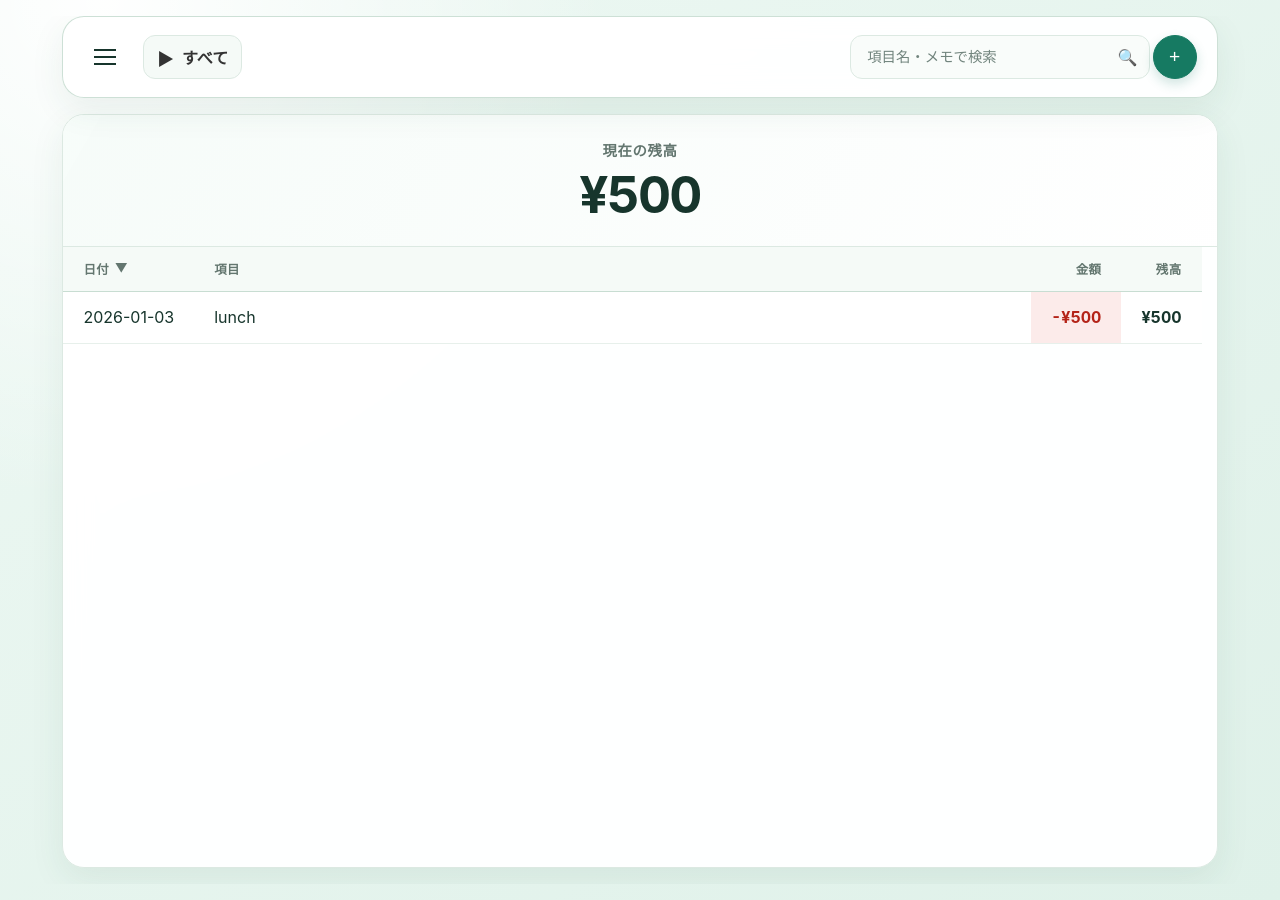
shows saved images in read-only details before the pencil opens editing
Click the row "2026-01-03 lunch -¥500 ¥500".
click(632, 318)  # box [63, 292, 1202, 343]
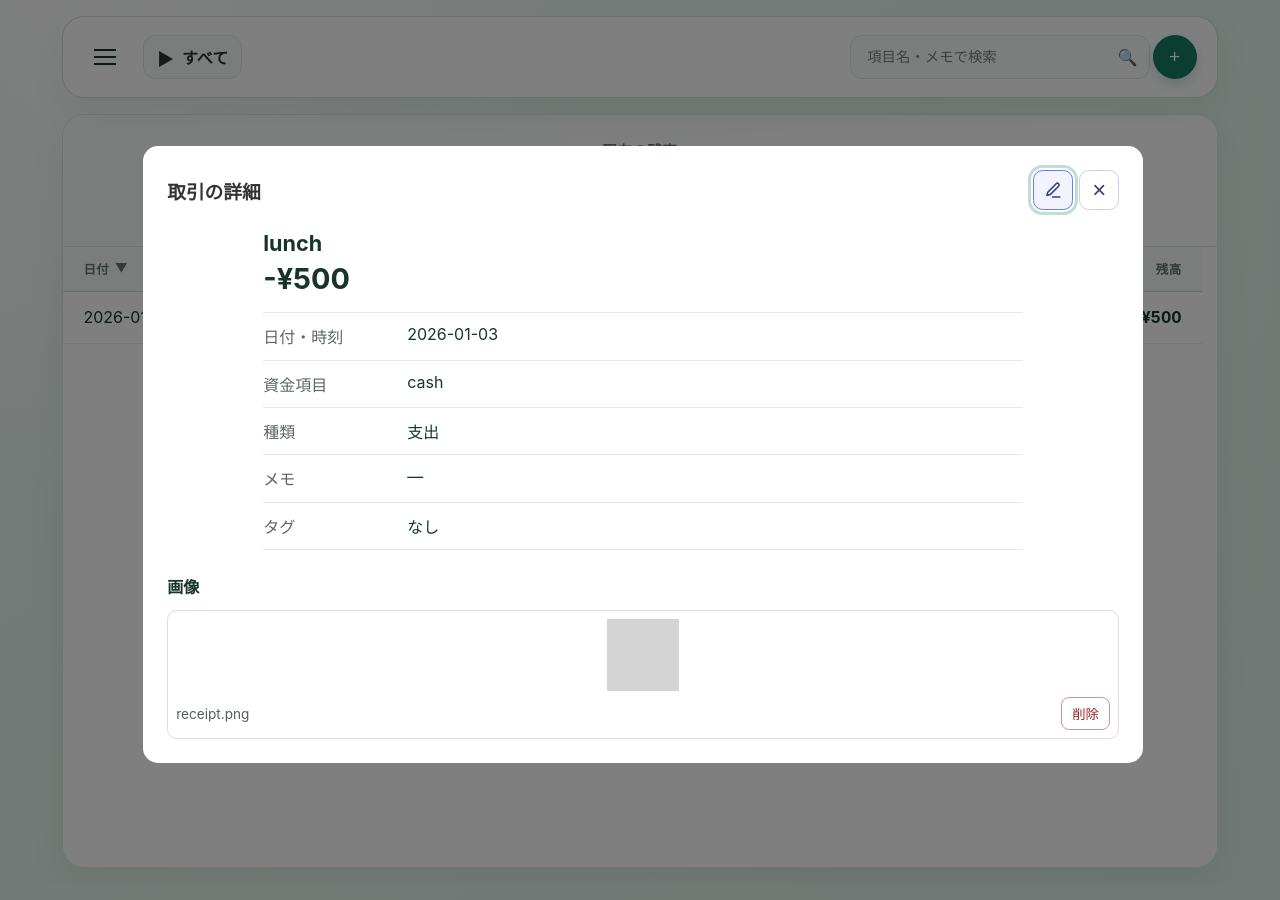
Now the dialog with class "transaction-details" shows "lunch", box [263, 230, 322, 256]
Click the button named "取引を編集".
click(1053, 190)  # box [1033, 170, 1073, 210]
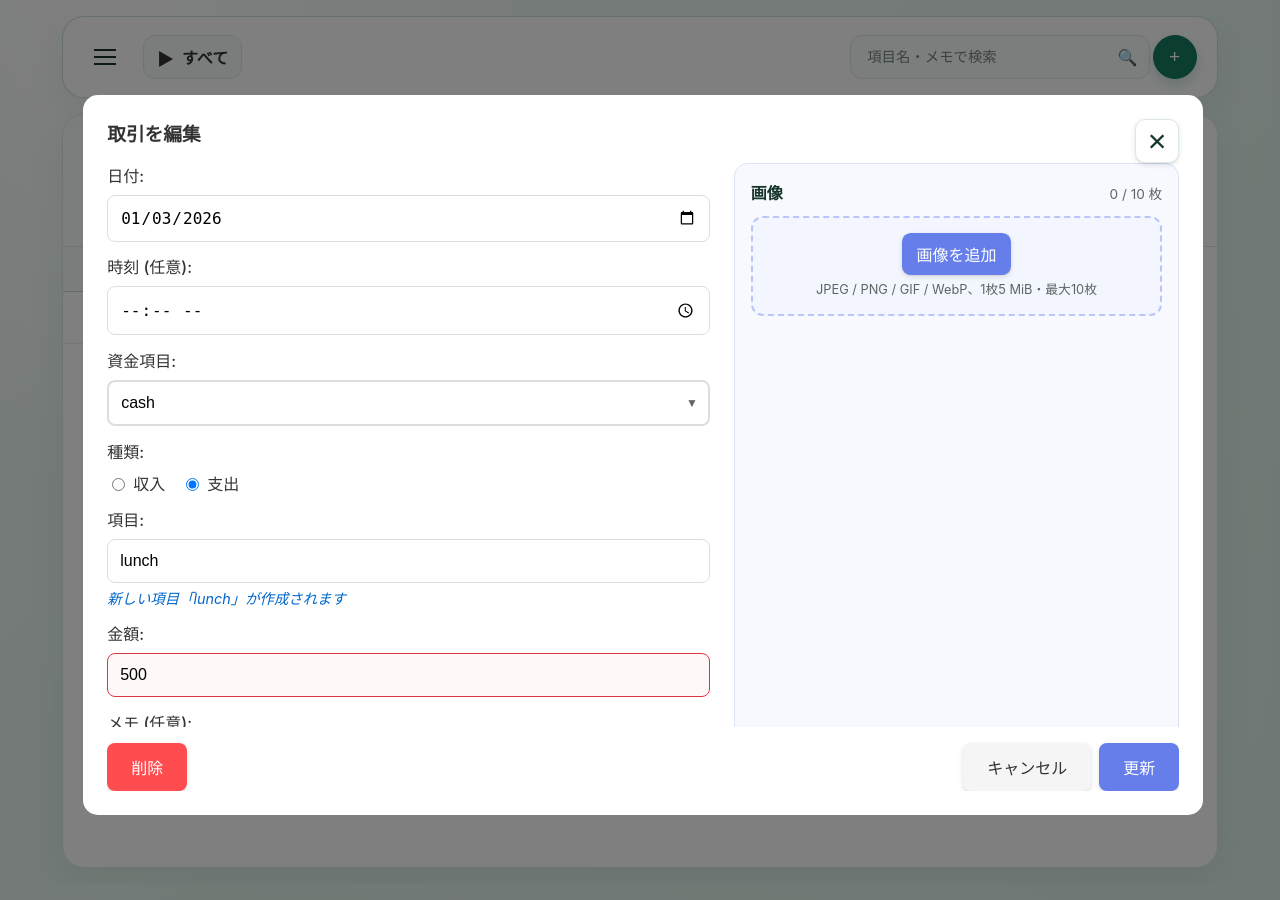
Now the heading "取引を編集" is shown, box [107, 118, 201, 146]
